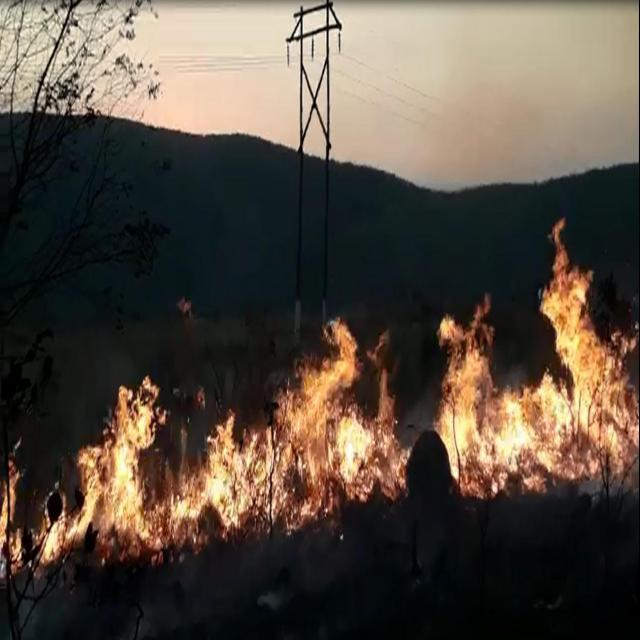Fire: (1, 325, 398, 571), (437, 215, 637, 500)
